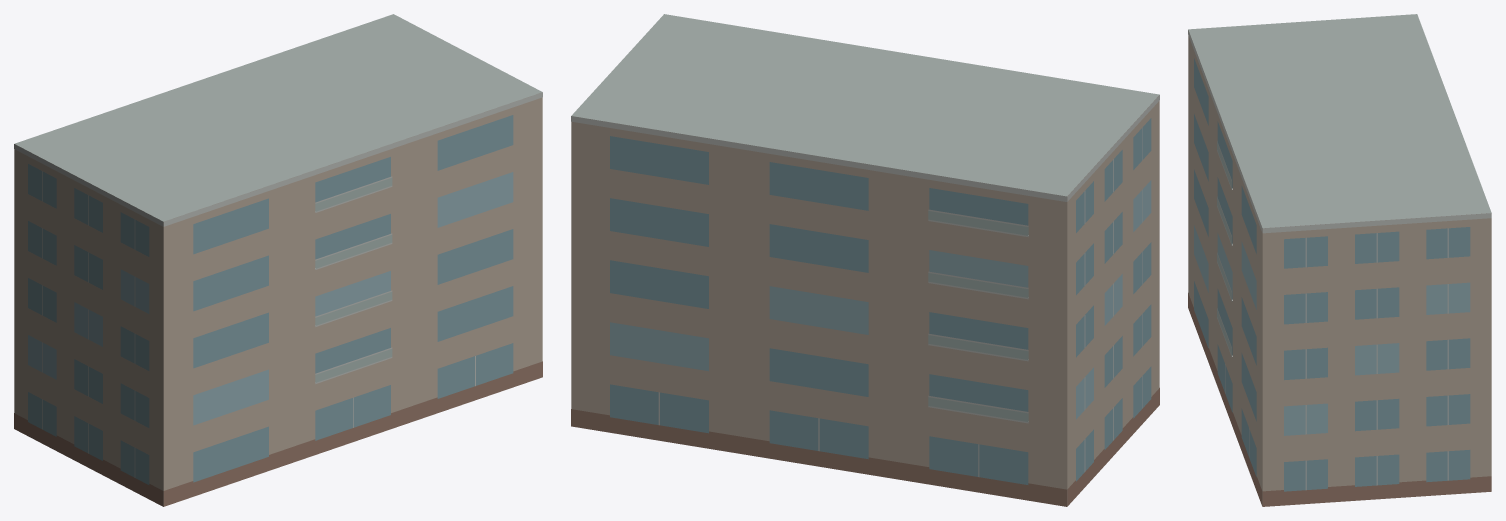
The model's file is survey-upis-32960544.glb.
The picture shows the model from 3 angles, left to right: view 1: azimuth 30°, elevation 25°; view 2: azimuth 150°, elevation 25°; view 3: azimuth 270°, elevation 25°; orthographic projection. The views are drawn at different scales.
Parts seen in each view (by area): view 1: survey-upis-32960544.tmp; view 2: survey-upis-32960544.tmp; view 3: survey-upis-32960544.tmp.
Part boxes in pixels (left/top/right/bottom): survey-upis-32960544.tmp: left=14, top=14, right=542, bottom=506; survey-upis-32960544.tmp: left=571, top=14, right=1159, bottom=506; survey-upis-32960544.tmp: left=1188, top=14, right=1491, bottom=506.
Size of the model in its own units: 21.94 by 13.3 by 13.14.
